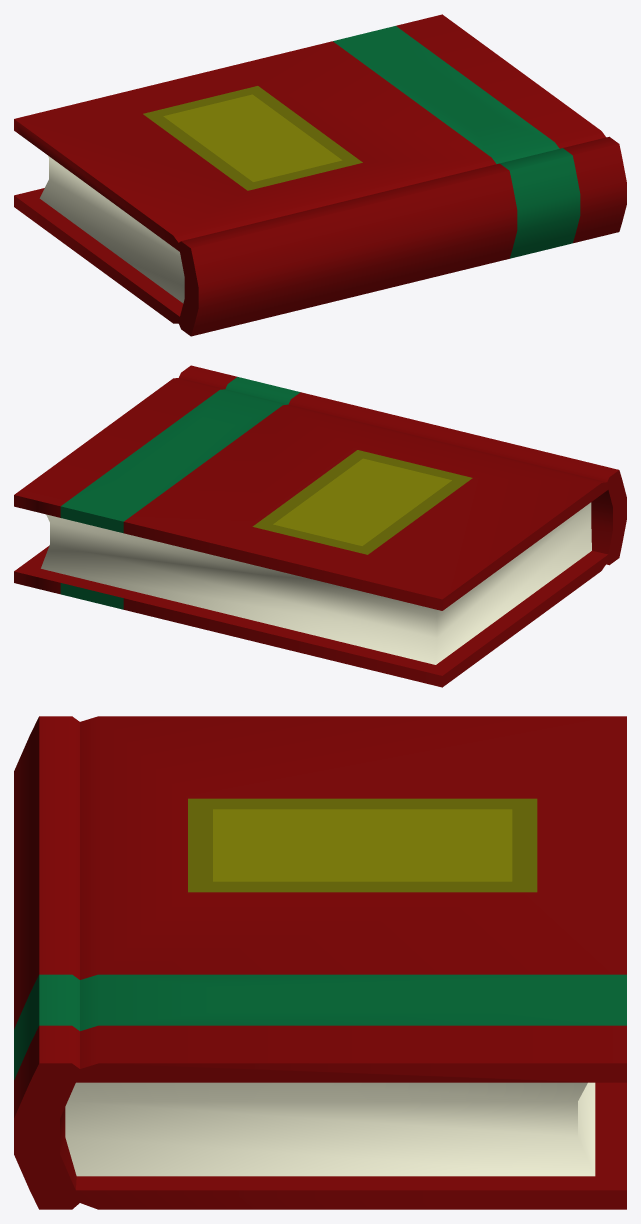
File: book.fbx
The picture shows the model from 3 angles, top to bottom: view 1: azimuth 30°, elevation 25°; view 2: azimuth 150°, elevation 25°; view 3: azimuth 270°, elevation 25°; orthographic projection. The views are drawn at different scales.
Visible parts, largest first — view 1: Cube; view 2: Cube; view 3: Cube.
Part boxes in pixels (left/top/right/bottom): Cube: left=14, top=14, right=626, bottom=336; Cube: left=14, top=365, right=626, bottom=687; Cube: left=14, top=716, right=626, bottom=1209.
Size of the model in its own units: 280 by 55.02 by 209.
